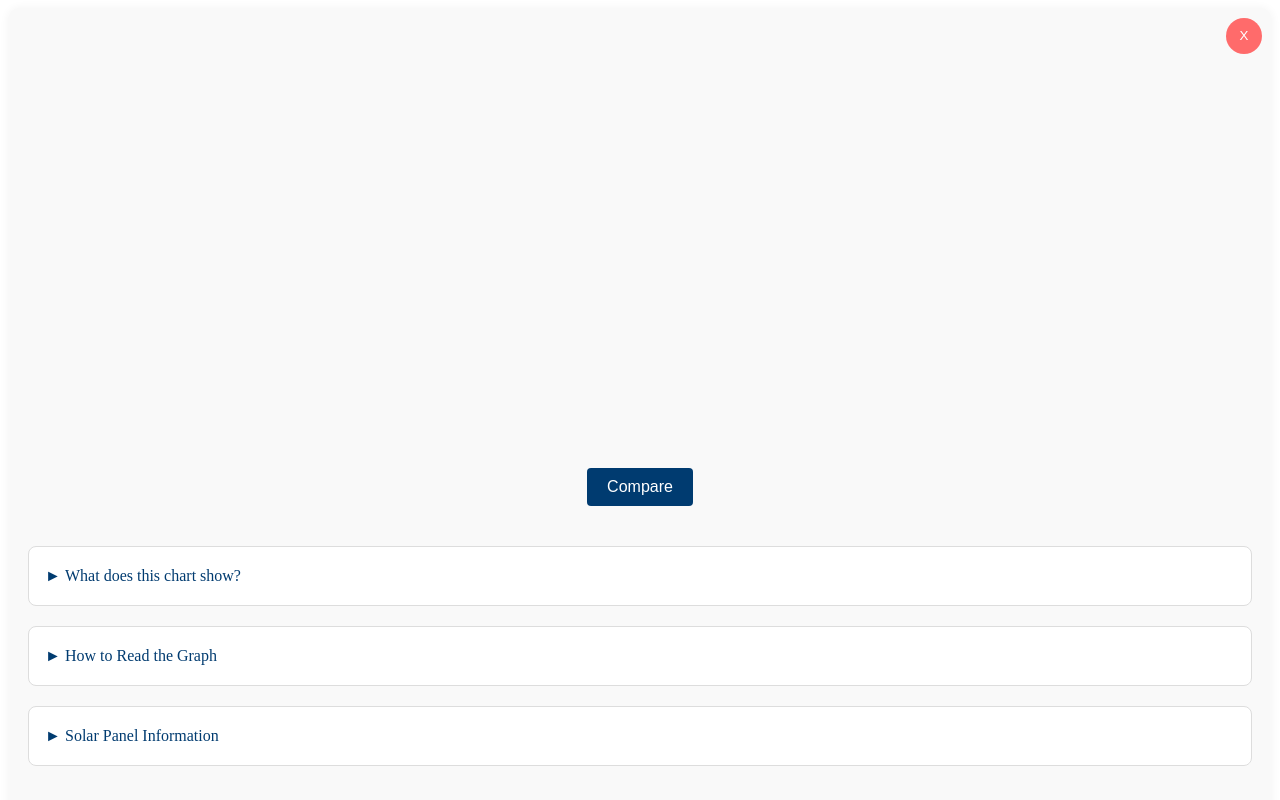
Test: SourcesGraph.vue › shows dropdown when Compare button is clicked
This screenshot has width=1280, height=800.
Click the button with class "comp-btn".
click(640, 487)  # box [587, 468, 693, 506]
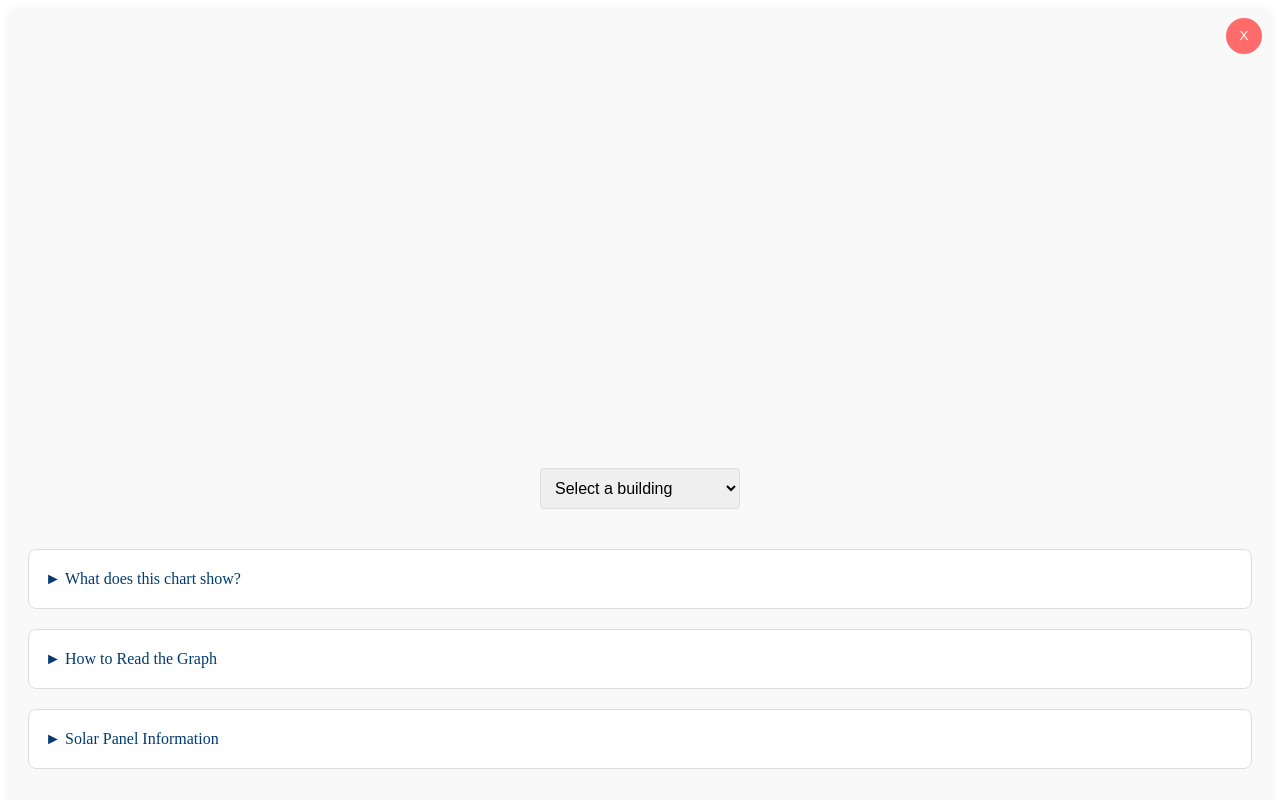
Check: the dropdown is shown, box [540, 468, 740, 509]
